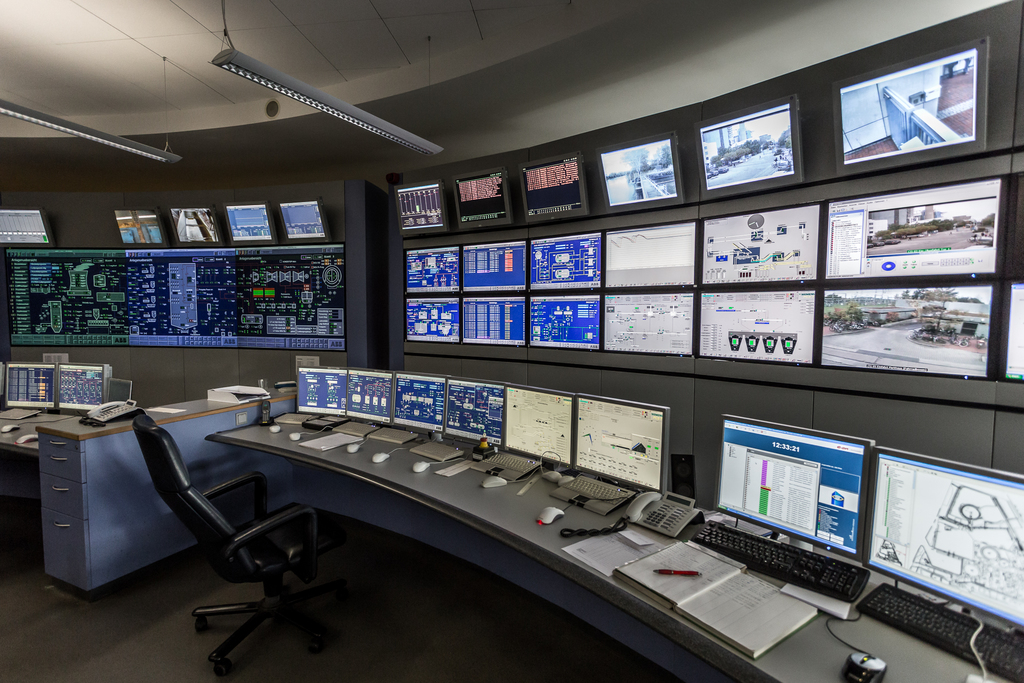Cabinetry: (37, 397, 269, 595)
